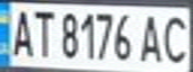1: (78, 9, 96, 60)
6: (112, 9, 139, 62)
7: (93, 9, 115, 61)
8: (57, 8, 81, 59)
A: (136, 11, 166, 64), (6, 6, 36, 58)
C: (157, 11, 193, 65)
T: (27, 7, 57, 58)
